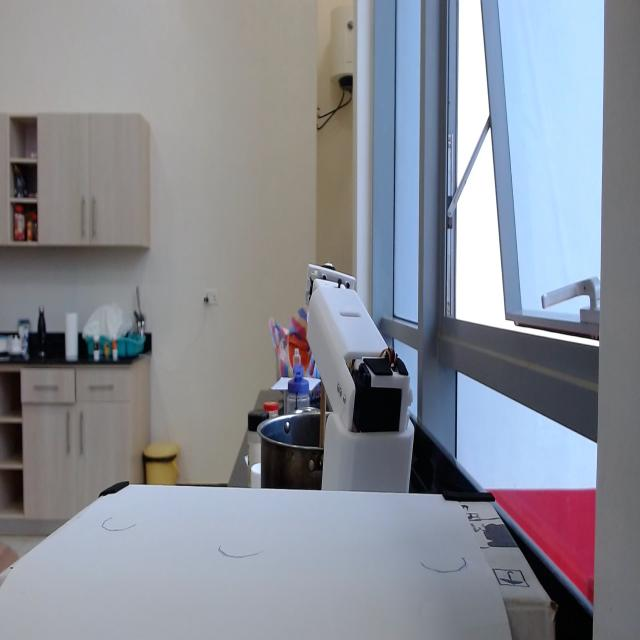cooking_pot: (258, 408, 328, 491)
